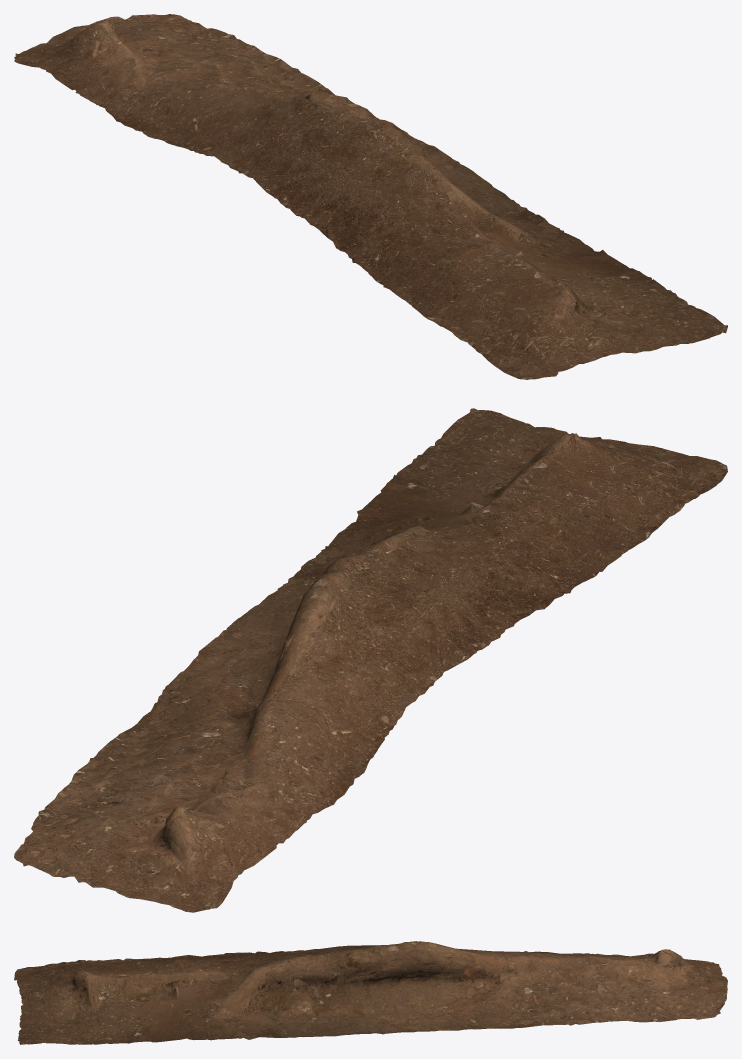
File: single_root.glb
3 views of the same model, one above another, from view 1: azimuth 30°, elevation 25°; view 2: azimuth 150°, elevation 25°; view 3: azimuth 270°, elevation 25° (orthographic). The views are drawn at different scales.
Size of the model in its own units: 0.5548 by 0.1787 by 1.84.
Materials: 1 (1 with a texture image).
